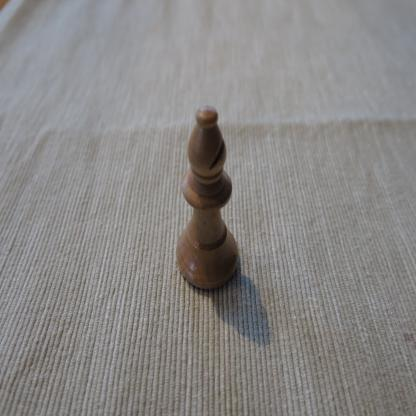white-bishop: (176, 104, 238, 293)
